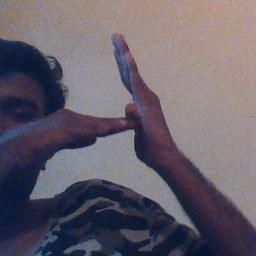Z: (64, 28, 179, 171)
